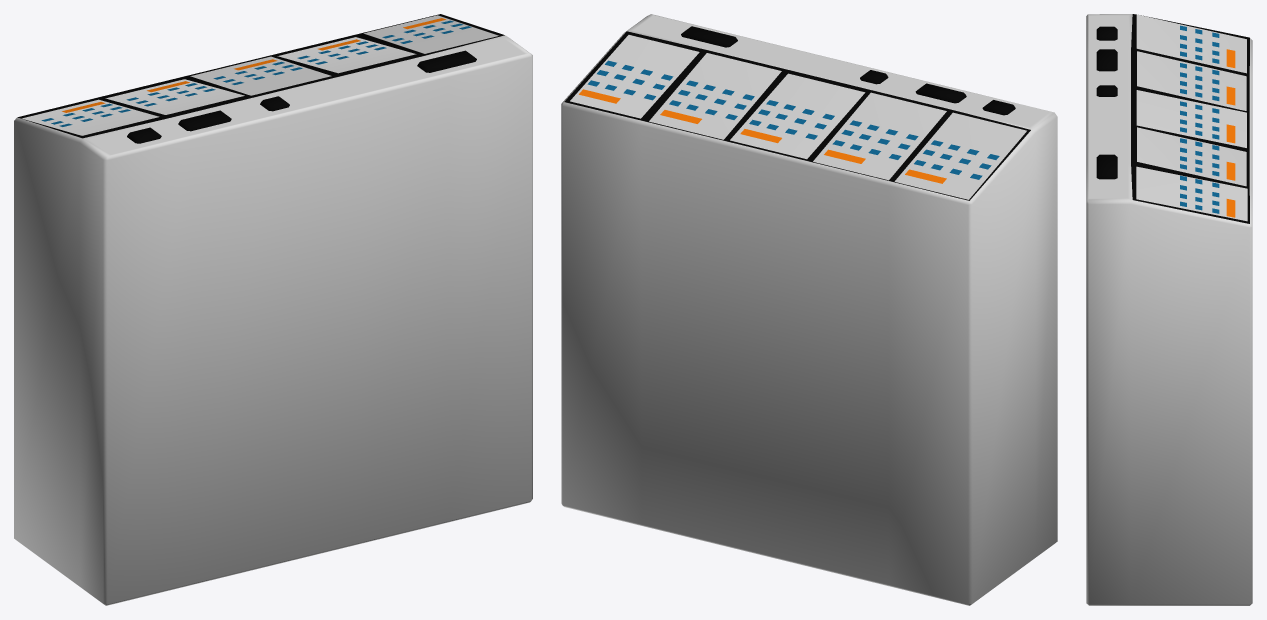
3 views of the same model, side by side, from view 1: azimuth 30°, elevation 25°; view 2: azimuth 150°, elevation 25°; view 3: azimuth 270°, elevation 25° (orthographic). The views are drawn at different scales.
Parts seen in each view (by area): view 1: Cube; view 2: Cube; view 3: Cube.
Boxes of the visible parts, bbox=[...] form: Cube: bbox=[14, 14, 532, 605]; Cube: bbox=[561, 14, 1057, 605]; Cube: bbox=[1086, 14, 1252, 605].
Bounding box in the file's own units: 43 × 43.39 × 16.
